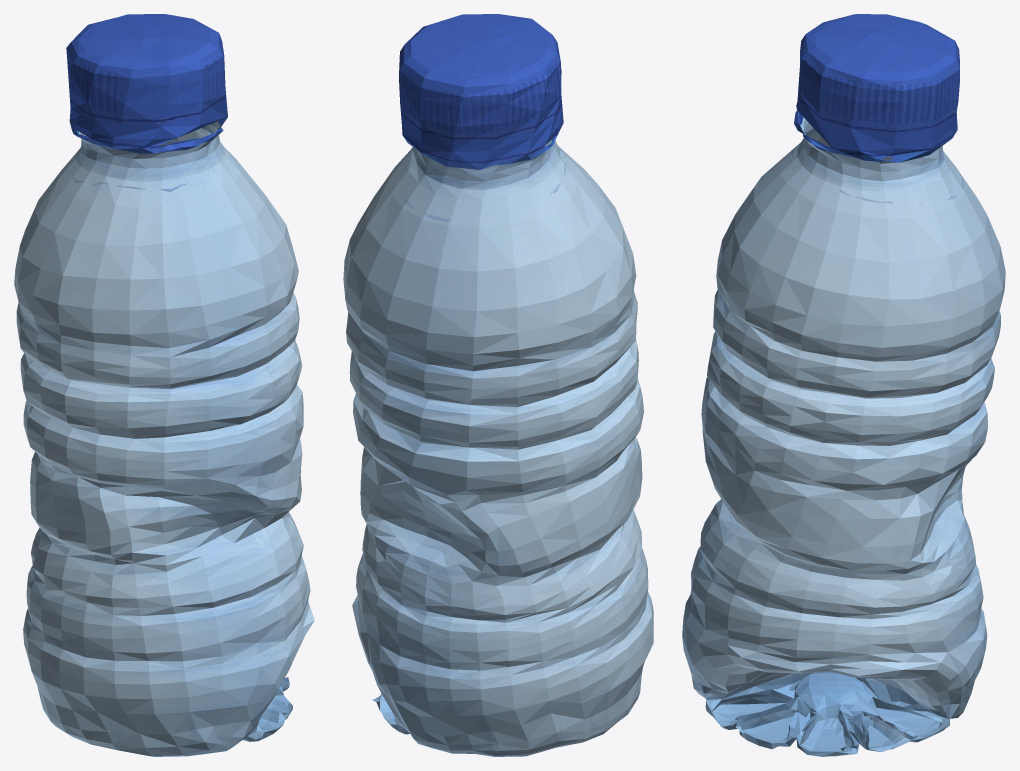
Rendered from tripo_convert_8282057d-cffd-49ff-a8cf-e996cd0b2b0e.obj.
3 renders of one model, left to right at view 1: azimuth 30°, elevation 25°; view 2: azimuth 150°, elevation 25°; view 3: azimuth 270°, elevation 25°, orthographic. The views are drawn at different scales.
Visible parts, largest first — view 1: tripo_node_8282057d-cffd-49ff-a8cf-e996cd0b2b0e; view 2: tripo_node_8282057d-cffd-49ff-a8cf-e996cd0b2b0e; view 3: tripo_node_8282057d-cffd-49ff-a8cf-e996cd0b2b0e.
Part boxes in pixels (left/top/right/bottom): tripo_node_8282057d-cffd-49ff-a8cf-e996cd0b2b0e: left=14, top=14, right=314, bottom=756; tripo_node_8282057d-cffd-49ff-a8cf-e996cd0b2b0e: left=343, top=14, right=653, bottom=756; tripo_node_8282057d-cffd-49ff-a8cf-e996cd0b2b0e: left=682, top=14, right=1005, bottom=756.
Size of the model in its own units: 0.3847 by 0.9785 by 0.4267.
Materials: 1 (1 with a texture image).
